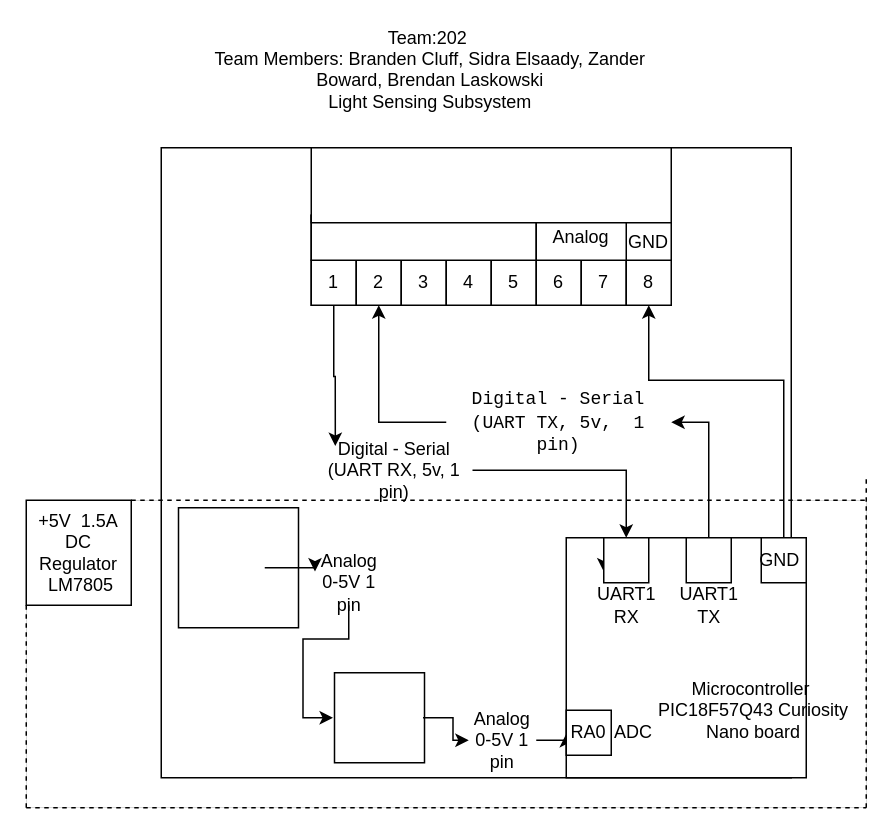
Image size: 894x836. Some labels were removed from this diagram. Here are the shapes that lost their labels. From the top down, the centre of each, then its label:
pixel 490 184: Connector 1
pixel 423 237: Digital
pixel 237 567: 5549 Photoresistor
pixel 625 559: RC3
pixel 708 559: RC2
pixel 378 717: MCP6004 Non-inverting Op-Amp
